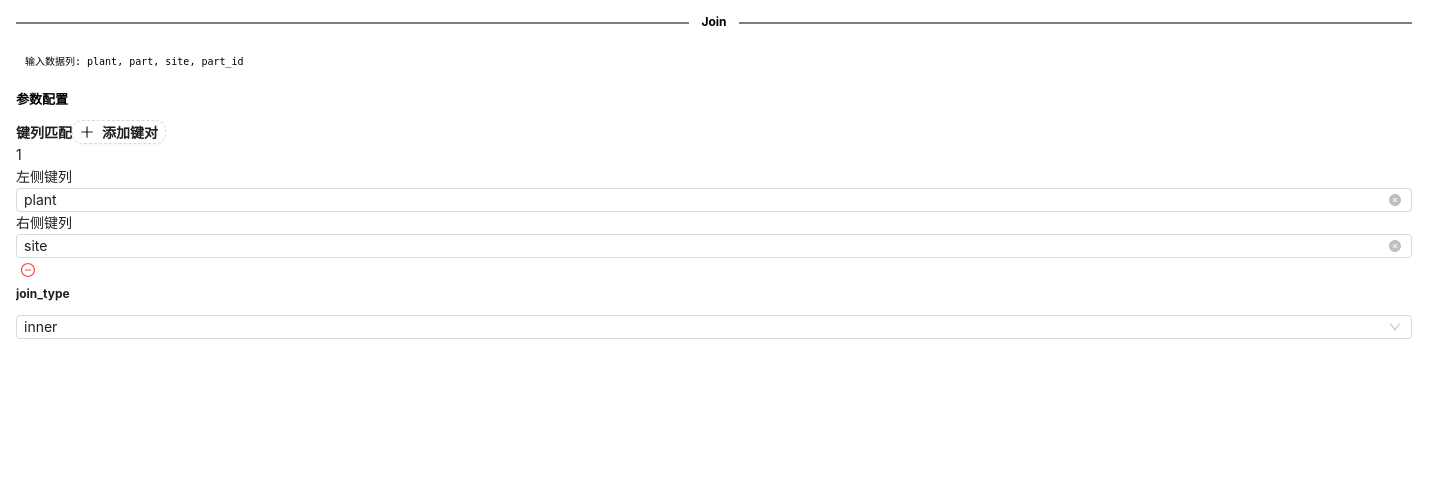
NodeConfigPanel Join configuration › keeps a newly added blank key pair visible and persisted
The width and height of the screenshot is (1429, 494).
Click the button "添加键对" at (119,132), box 72,120 -> 166,144
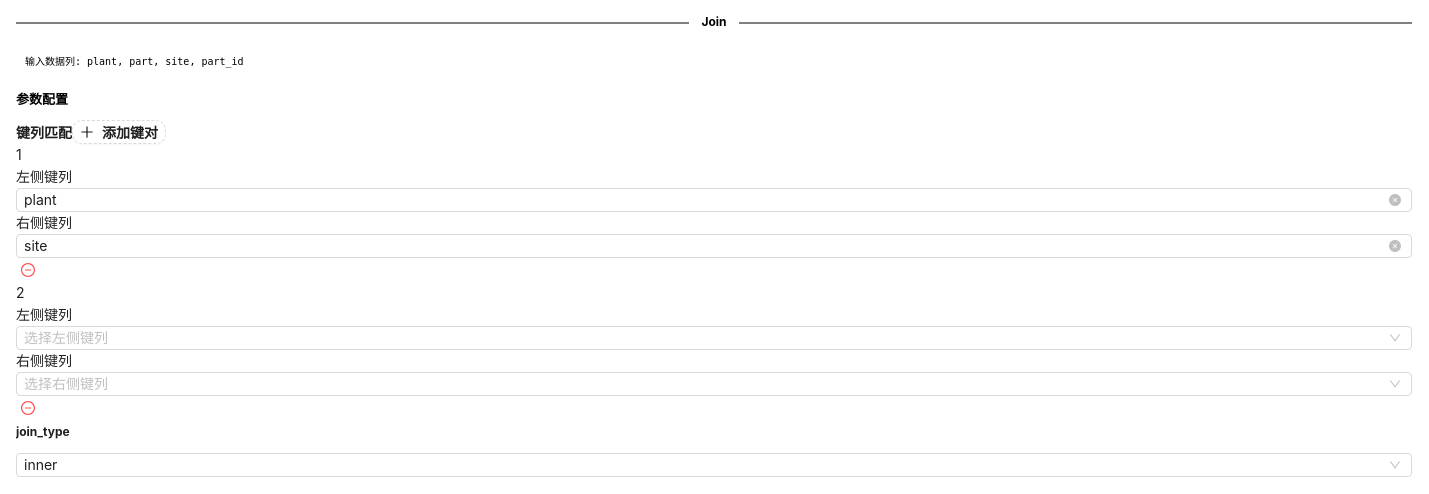
expect the text "左侧键列" is shown 2 times: met, box 16,168 -> 72,185; 16,306 -> 72,323
